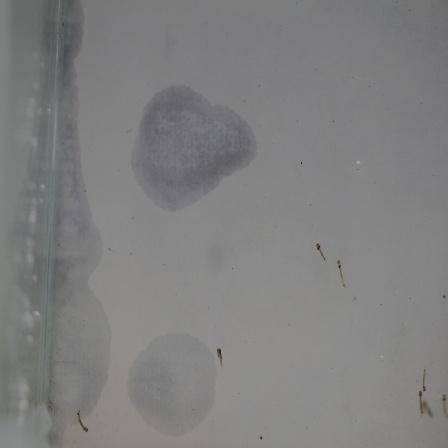Jentik-Nyamuk: (332, 256, 349, 293), (72, 406, 92, 435), (212, 343, 230, 371), (313, 239, 329, 264)
